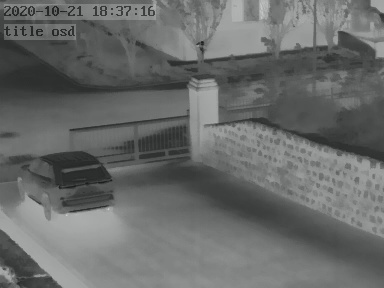vehicle: (18, 146, 117, 214)
